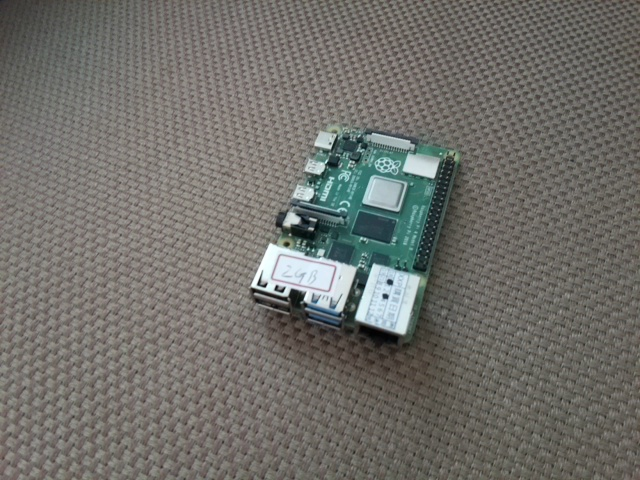Pi4: (242, 115, 465, 349)
